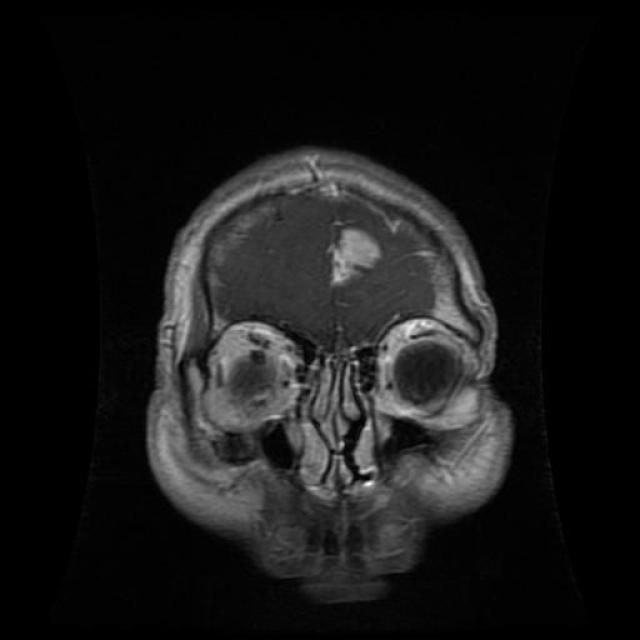glioma: (322, 224, 386, 294)
